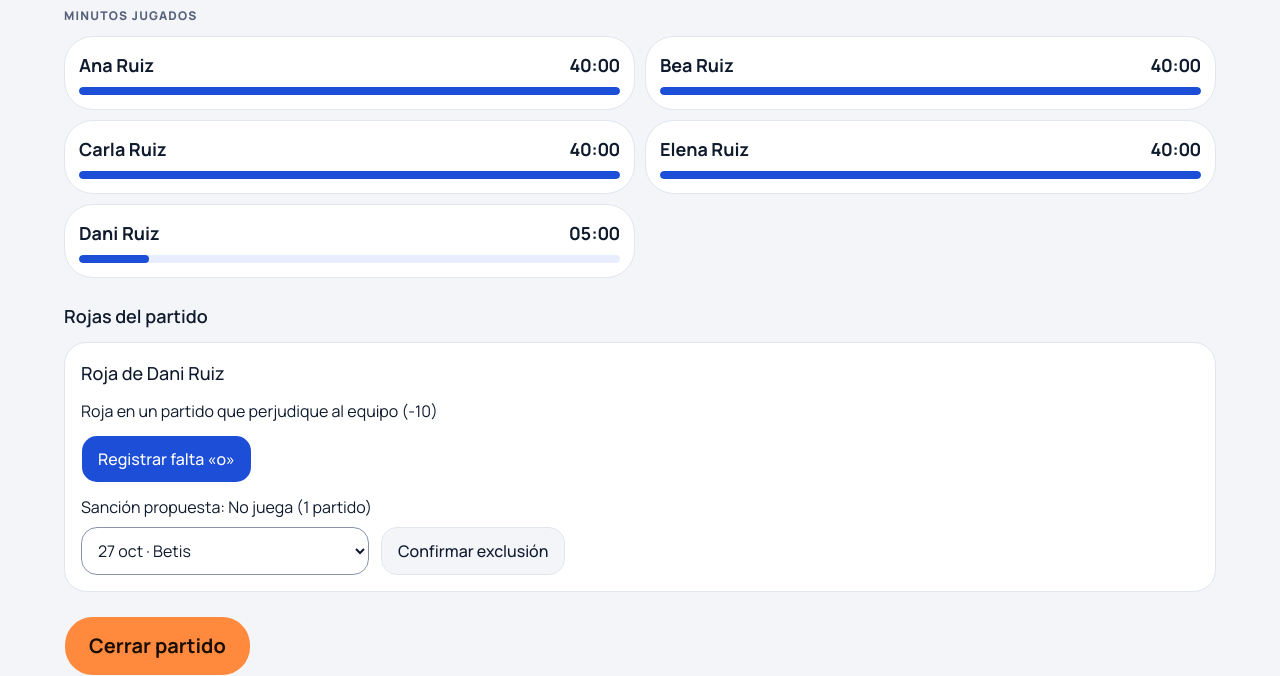
Test: rojas en el resumen del partido › registra la falta «o» como falta en partido de la sesión del partido
(page scrolled)
Click the button with aria-label "Registrar falta «o» a Dani Ruiz" at point(166, 459), box [81, 435, 252, 483]
(page scrolled)
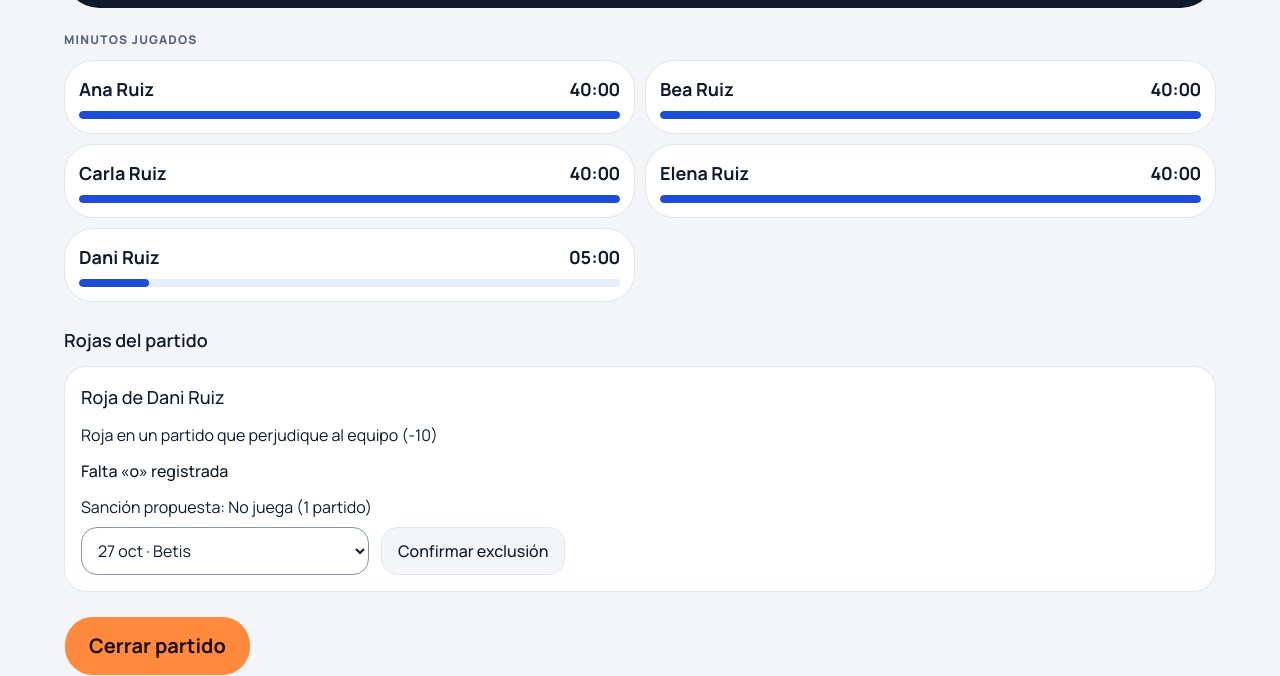
Result: the text "Falta «o» registrada" is shown at [81, 460, 228, 482]
